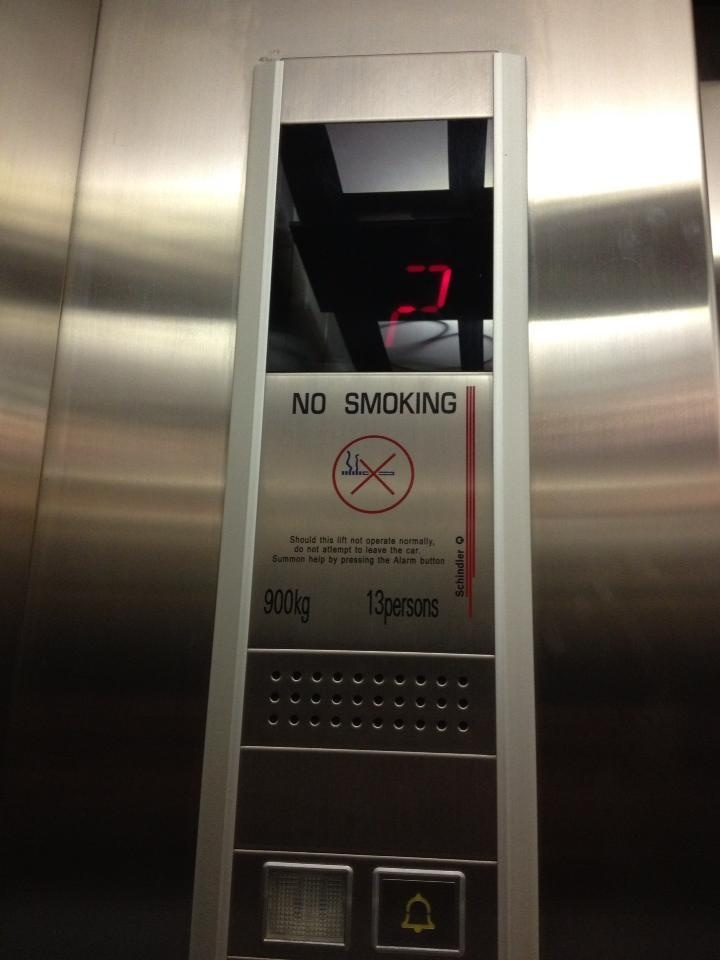alarm: (370, 862, 470, 955)
empty: (259, 858, 359, 951)
led: (265, 106, 502, 381)
